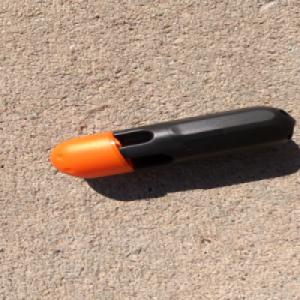PlasticPart: (48, 105, 297, 179)
